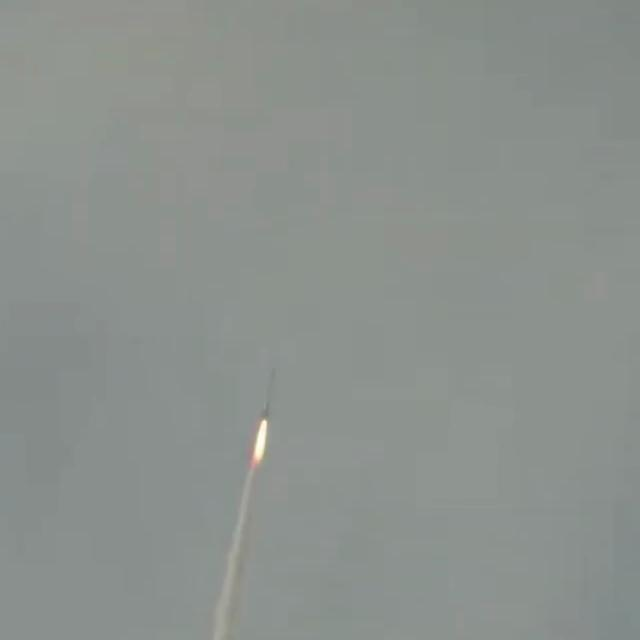smoke_trail_with_rocket: (210, 371, 273, 640)
